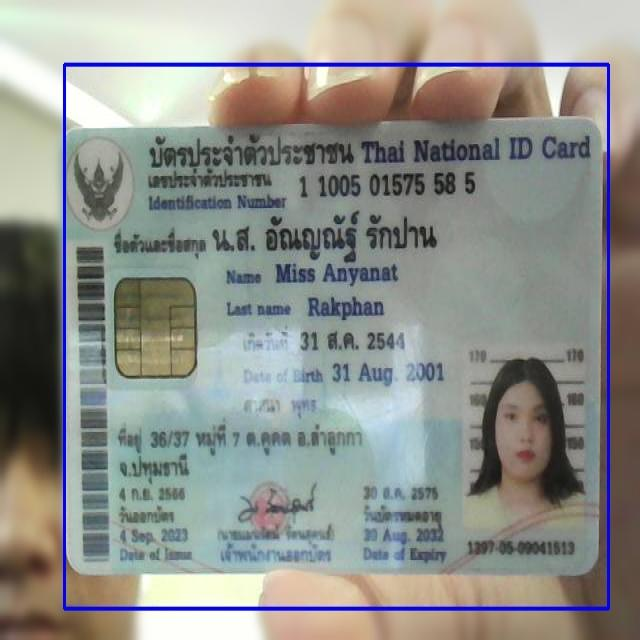Address_th: (112, 414, 374, 488)
Date_of_Birth: (327, 356, 448, 391)
Date_of_Expiry: (355, 524, 452, 548)
Date_of_Issue: (119, 524, 191, 547)
First_Name: (272, 258, 402, 290)
ID_Number: (294, 169, 485, 201)
Image: (465, 340, 591, 538)
Last_Name: (304, 292, 387, 324)
Thai_Name: (207, 209, 447, 265)
